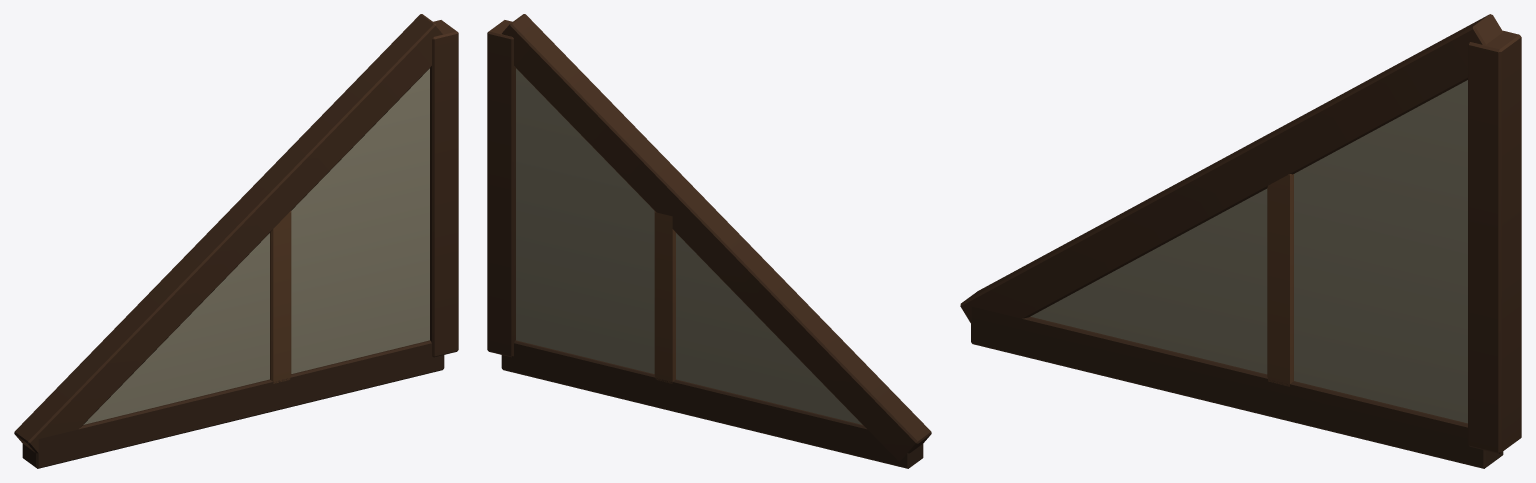
Rendered from piece_woodgable_half.glb.
3 renders of one model, left to right at view 1: azimuth 30°, elevation 25°; view 2: azimuth 150°, elevation 25°; view 3: azimuth 330°, elevation 25°, orthographic. The views are drawn at different scales.
Parts seen in each view (by area): view 1: Base; view 2: Base; view 3: Base.
Boxes of the visible parts, box(x1,y1,x2,y2) form: Base: box(14, 14, 458, 468); Base: box(487, 14, 931, 468); Base: box(960, 14, 1521, 468).
Bounding box in the file's own units: 4.21 × 3.26 × 0.3.
